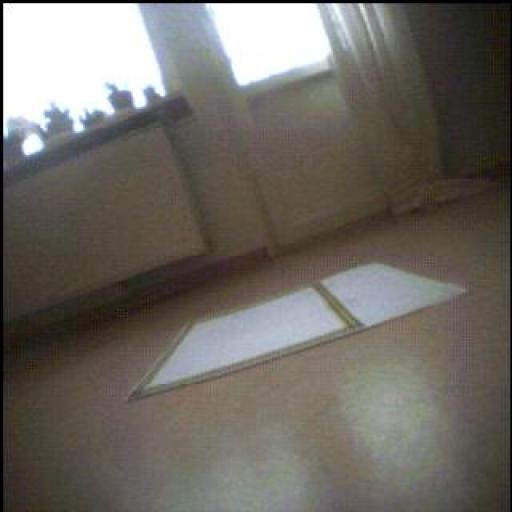Pad: (131, 265, 467, 399)
